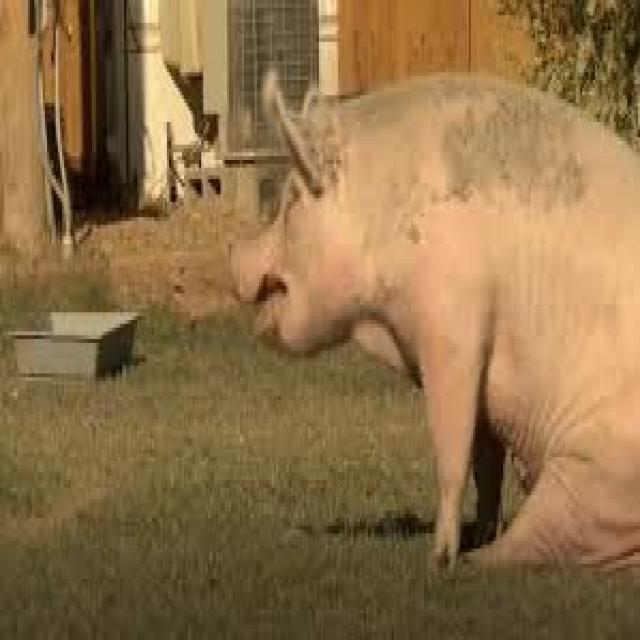Pig: (228, 41, 640, 577)
